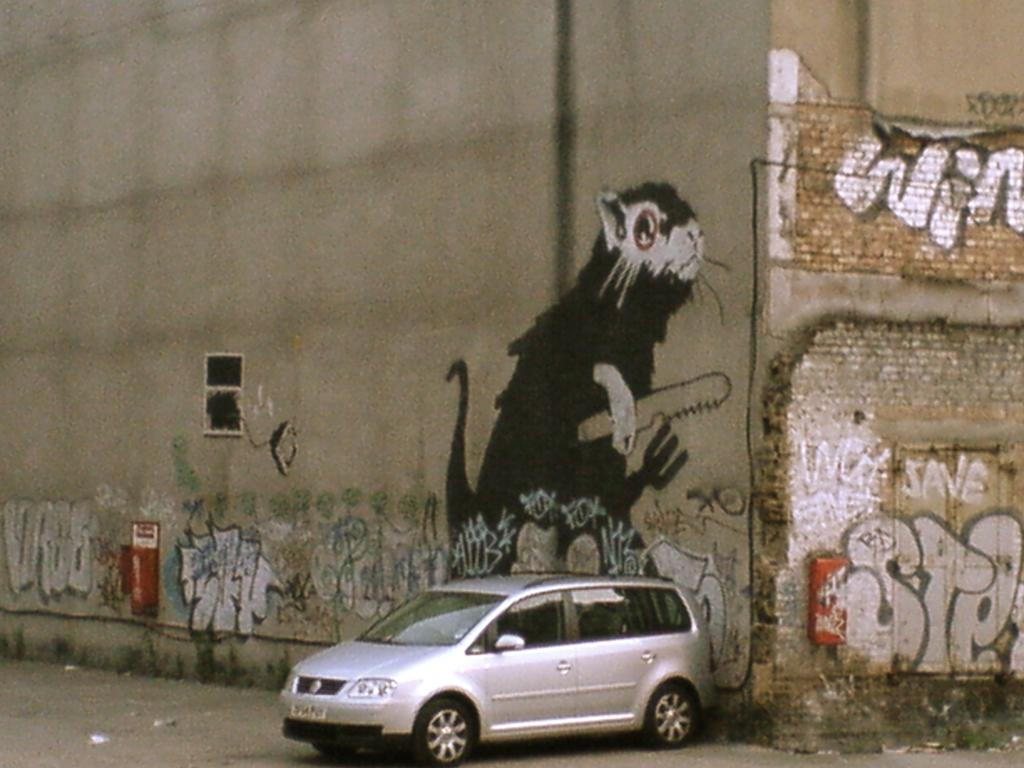Car: (278, 568, 720, 767)
